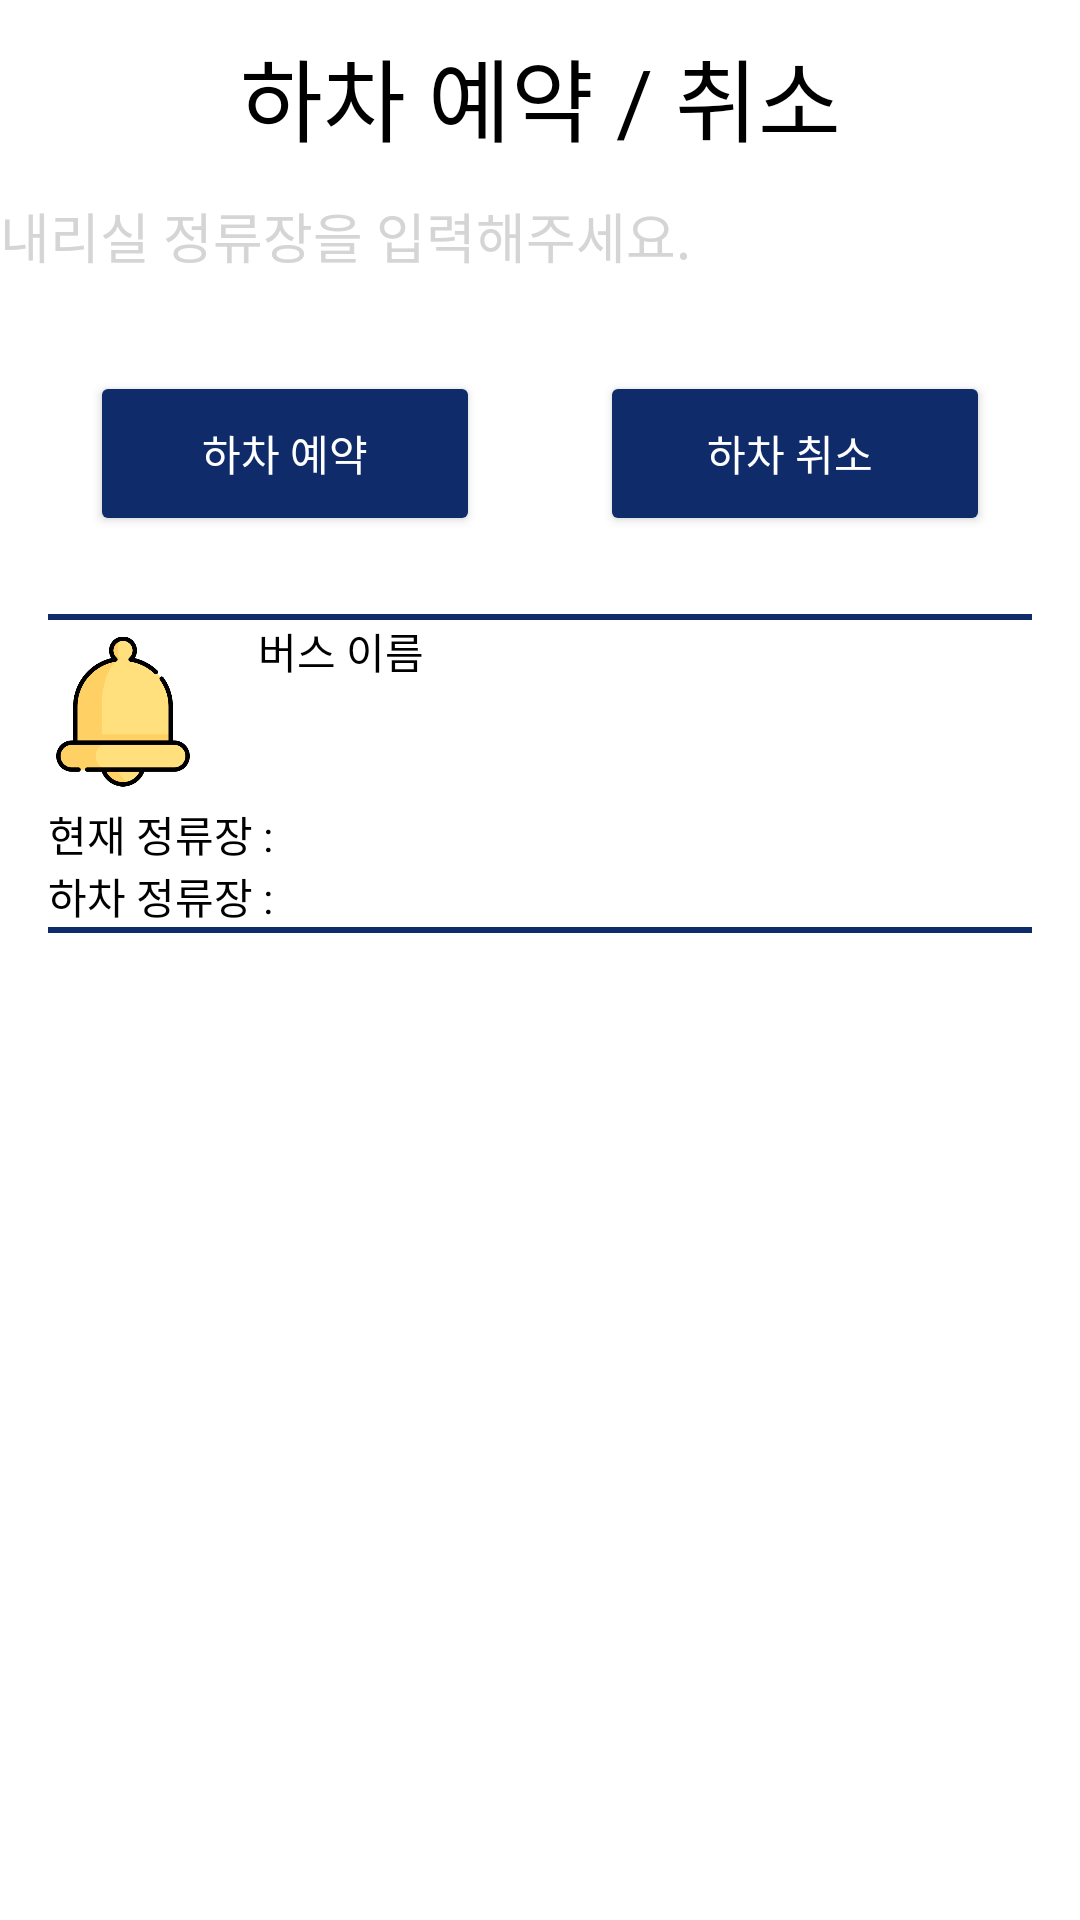

Icons on this 1080x1920 Android screen, each with its box as (x1, y1, x2, y2):
bell: (56, 637, 190, 787)
